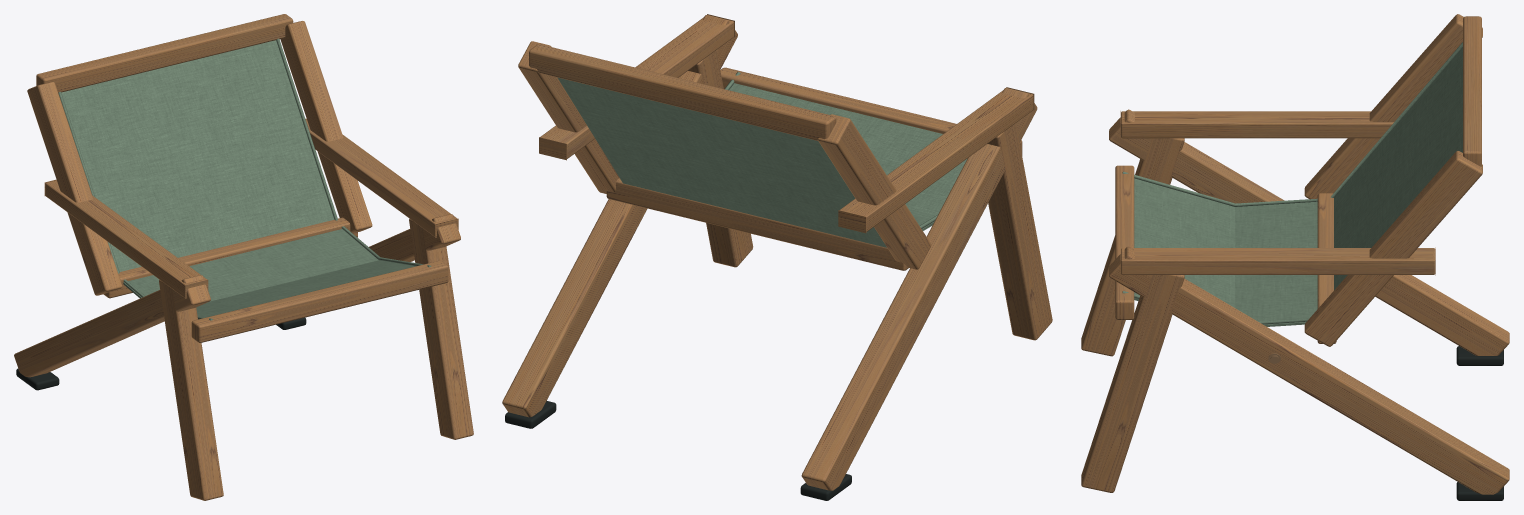
File: outdoor-teak-sling-chair.glb
The picture shows the model from 3 angles, left to right: view 1: azimuth 30°, elevation 25°; view 2: azimuth 150°, elevation 25°; view 3: azimuth 270°, elevation 25°; orthographic projection. The views are drawn at different scales.
Parts seen in each view (by area): view 1: catalog_surface_UVMap, catalog_surface_RealismUV; view 2: catalog_surface_UVMap, catalog_surface_RealismUV; view 3: catalog_surface_UVMap, catalog_surface_RealismUV.
Boxes of the visible parts, left/top/right/bottom form: catalog_surface_UVMap: left=14, top=14, right=473, bottom=500; catalog_surface_RealismUV: left=16, top=317, right=306, bottom=390; catalog_surface_UVMap: left=502, top=14, right=1052, bottom=490; catalog_surface_RealismUV: left=505, top=401, right=851, bottom=500; catalog_surface_UVMap: left=1081, top=14, right=1509, bottom=494; catalog_surface_RealismUV: left=1268, top=346, right=1503, bottom=500.
Bounding box in the file's own units: 0.73 × 0.78 × 0.88.
Materials: 6 (4 with a texture image).
